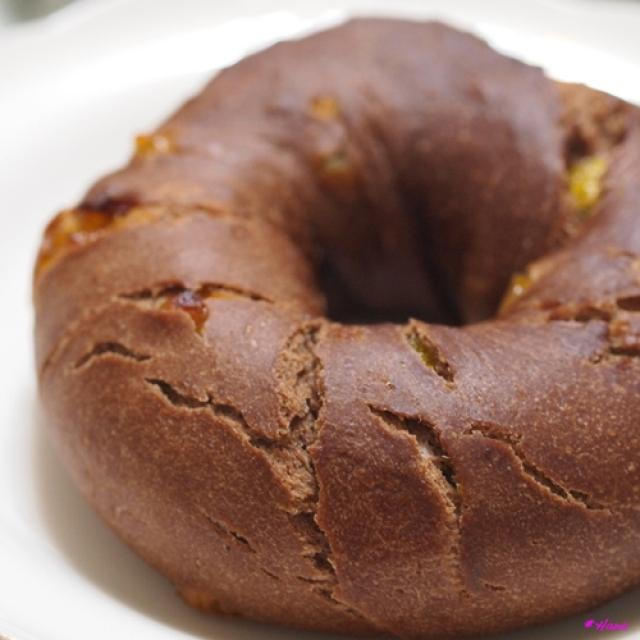面包点心: (22, 23, 621, 623)
